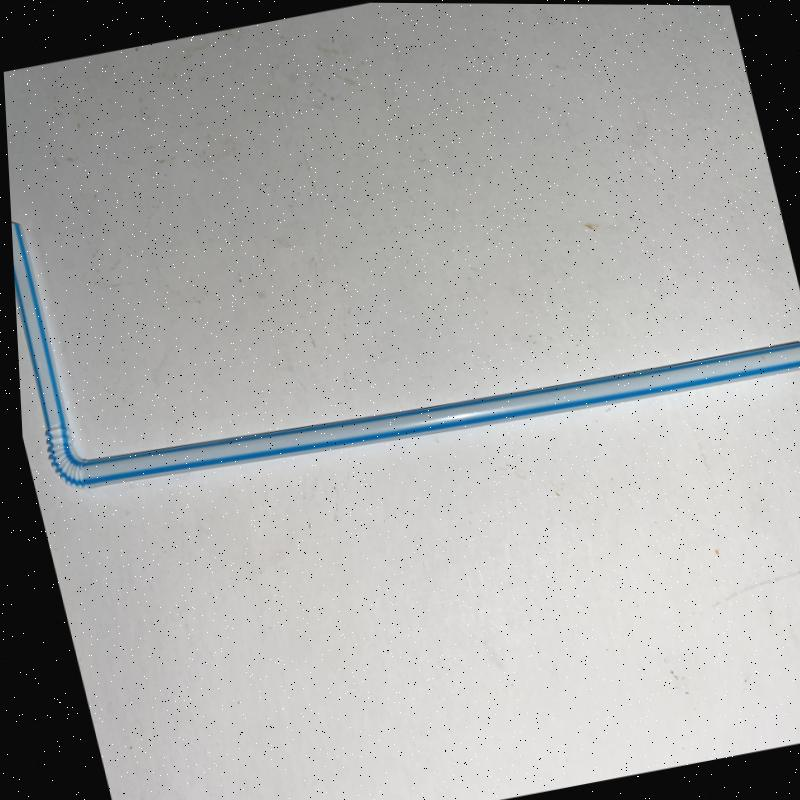plastic straw: (11, 220, 800, 480)
